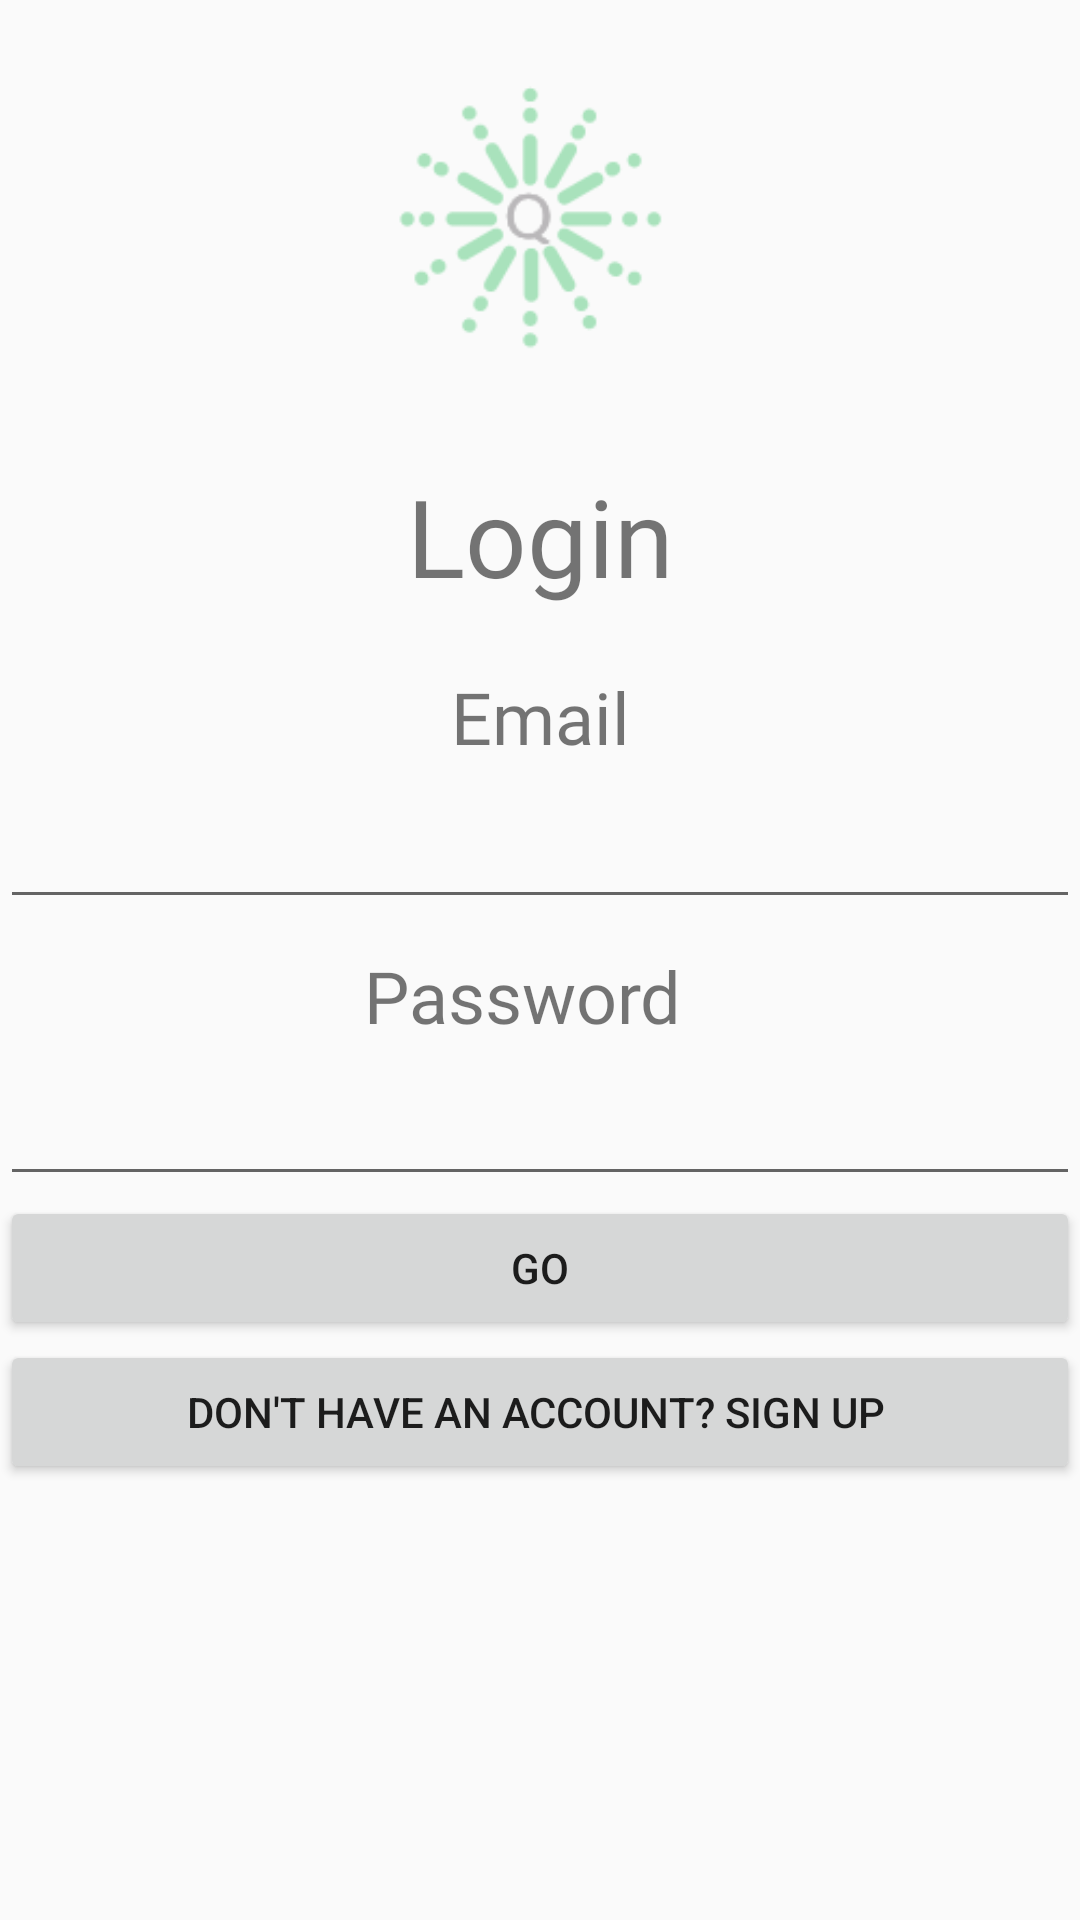

Locate icon controls on the screen. Image size 1080×1920, boxes as (left=x1, top=y1, right=x2, bottom=y2).
qflare: (left=400, top=88, right=661, bottom=347)
